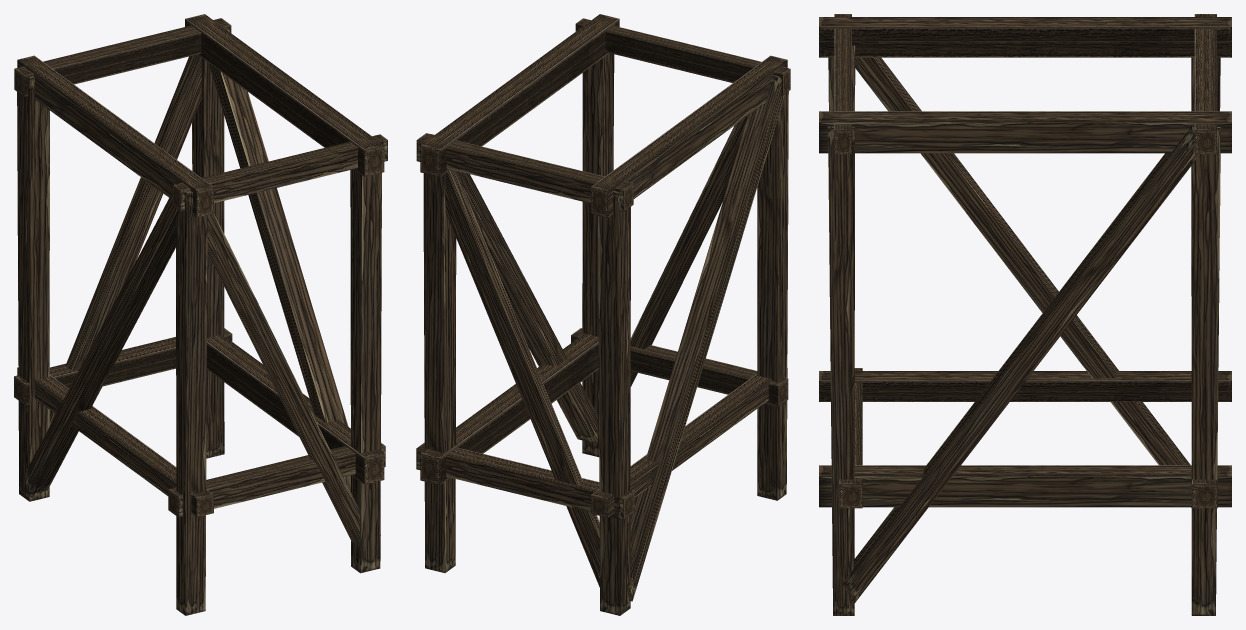
The model's file is Wood_4X8X6_03.fbx.
3 views of the same model, side by side, from view 1: azimuth 30°, elevation 25°; view 2: azimuth 150°, elevation 25°; view 3: azimuth 270°, elevation 25° (orthographic). The views are drawn at different scales.
Parts seen in each view (by area): view 1: Wood_4X8X6_03; view 2: Wood_4X8X6_03; view 3: Wood_4X8X6_03.
Boxes of the visible parts, x1,y1,x2,y2 form: Wood_4X8X6_03: (14, 14, 387, 615); Wood_4X8X6_03: (416, 14, 790, 615); Wood_4X8X6_03: (819, 14, 1231, 615).
Size of the model in its own units: 4 by 7.9 by 6.
